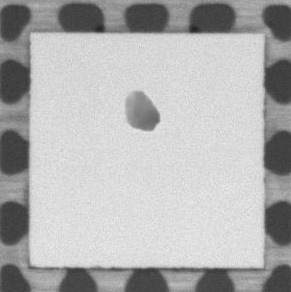DIE_INK: (118, 84, 165, 136)
